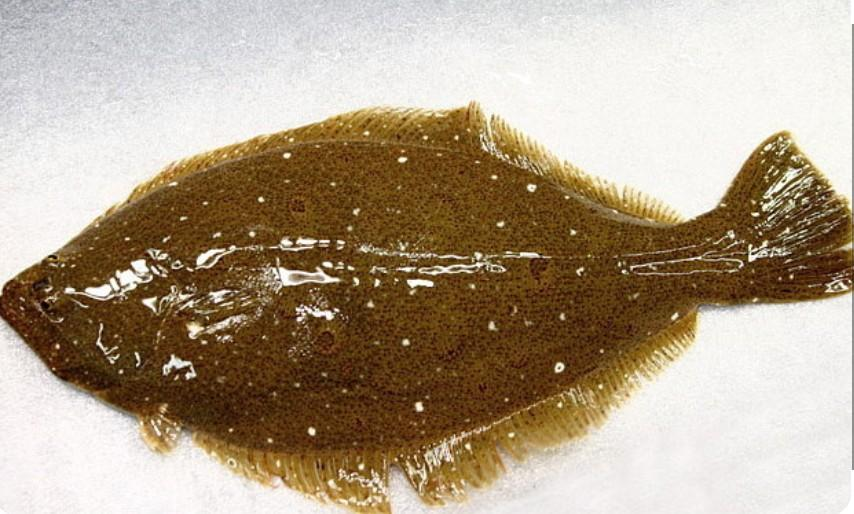fish: (0, 103, 853, 513)
